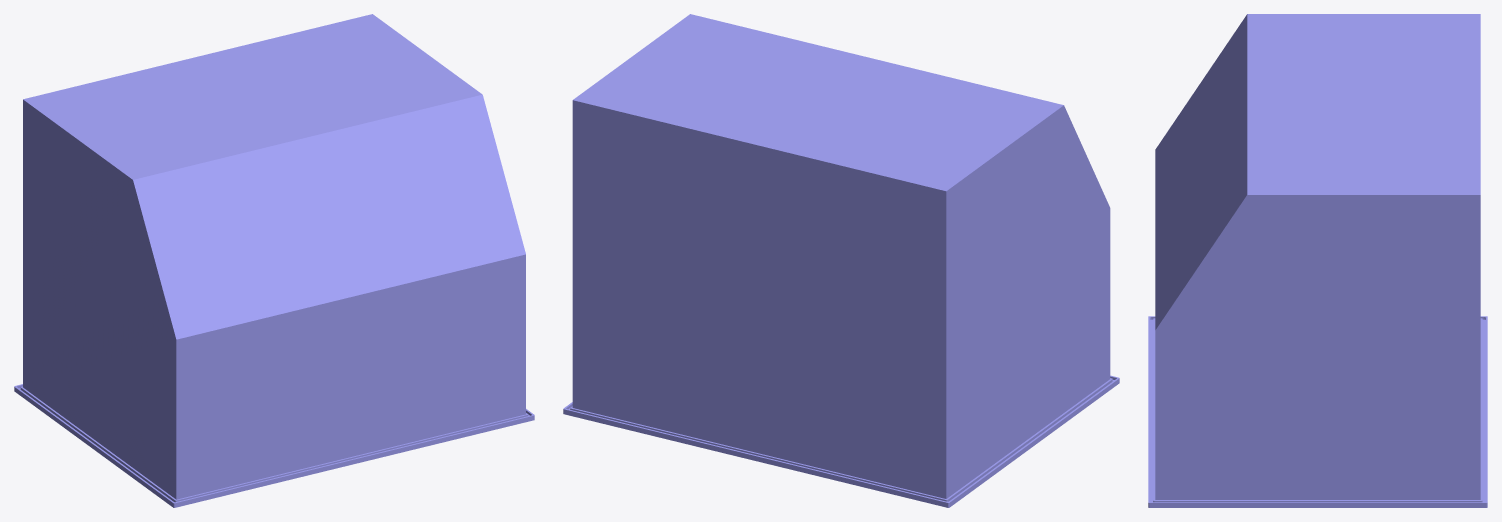
File: PartBody 13.FBX
The picture shows the model from 3 angles, left to right: view 1: azimuth 30°, elevation 25°; view 2: azimuth 150°, elevation 25°; view 3: azimuth 270°, elevation 25°; orthographic projection. The views are drawn at different scales.
Visible parts, largest first — view 1: PartBody; view 2: PartBody; view 3: PartBody.
Part boxes in pixels (x1,y1,x2,y2): PartBody: (14,14,534,507); PartBody: (563,14,1119,507); PartBody: (1148,14,1487,507).
Size of the model in its own units: 318 by 244 by 246.
